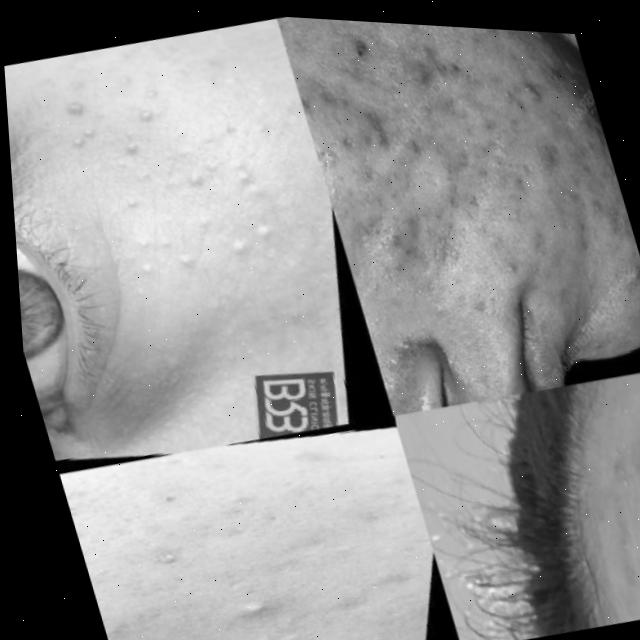Acne: (339, 20, 594, 302), (95, 433, 376, 640), (54, 67, 277, 308), (619, 416, 640, 582)
